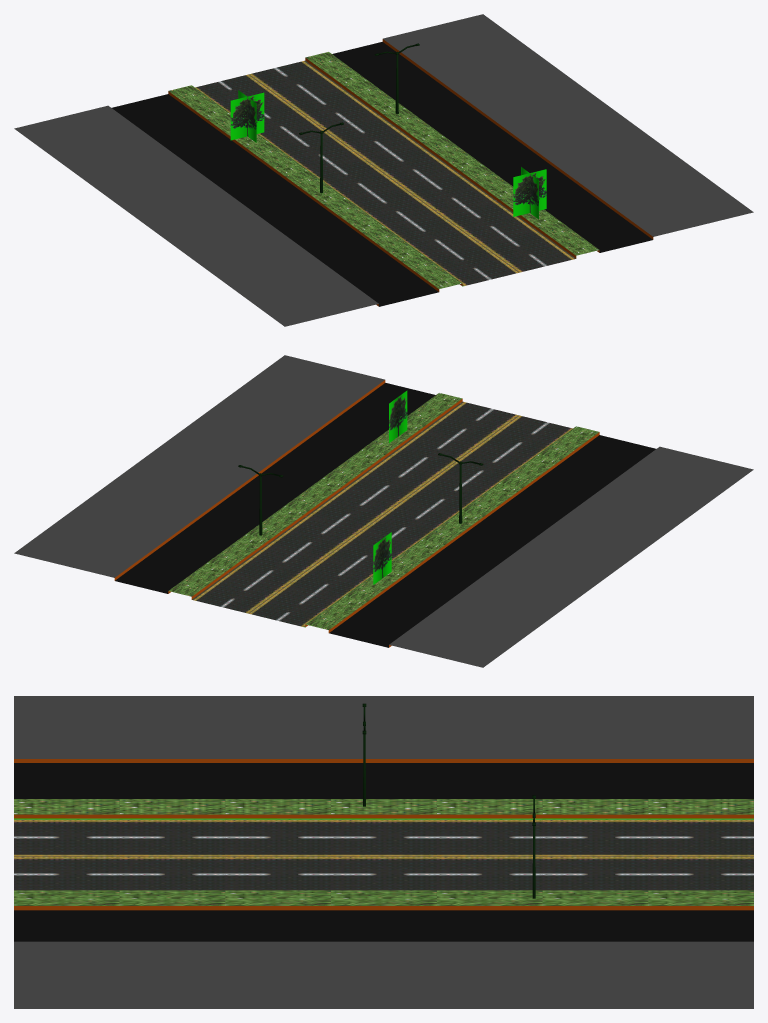
The model's file is 01_main.obj.
The picture shows the model from 3 angles, top to bottom: view 1: azimuth 30°, elevation 25°; view 2: azimuth 150°, elevation 25°; view 3: azimuth 270°, elevation 25°; orthographic projection. The views are drawn at different scales.
Visible parts, largest first — view 1: 01_main_Grid; view 2: 01_main_Grid; view 3: 01_main_Grid.
Part boxes in pixels (bbox=[...]): 01_main_Grid: bbox=[14, 14, 753, 326]; 01_main_Grid: bbox=[14, 355, 753, 667]; 01_main_Grid: bbox=[14, 696, 753, 1008].
Size of the model in its own units: 16 by 2.2 by 16.
